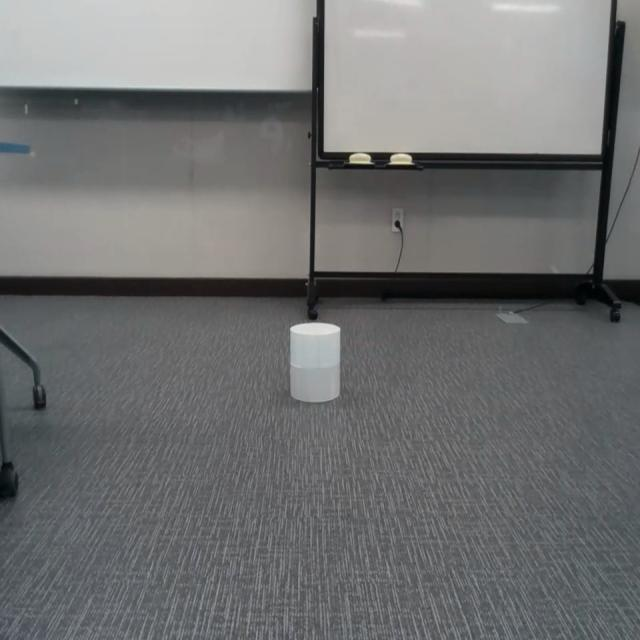cylinder: (289, 322, 341, 403)
